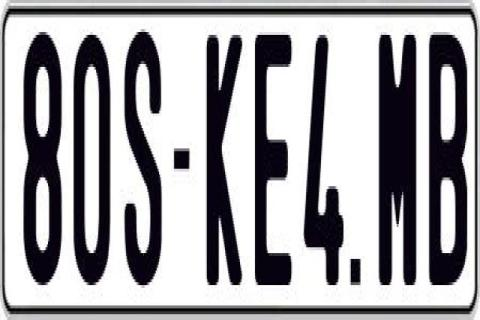0: (71, 32, 114, 294), (302, 26, 345, 276), (22, 24, 60, 288)
B: (426, 29, 460, 285)
E: (252, 26, 290, 282)
K: (205, 27, 240, 280)
M: (376, 32, 414, 282)
S: (122, 29, 160, 291)
